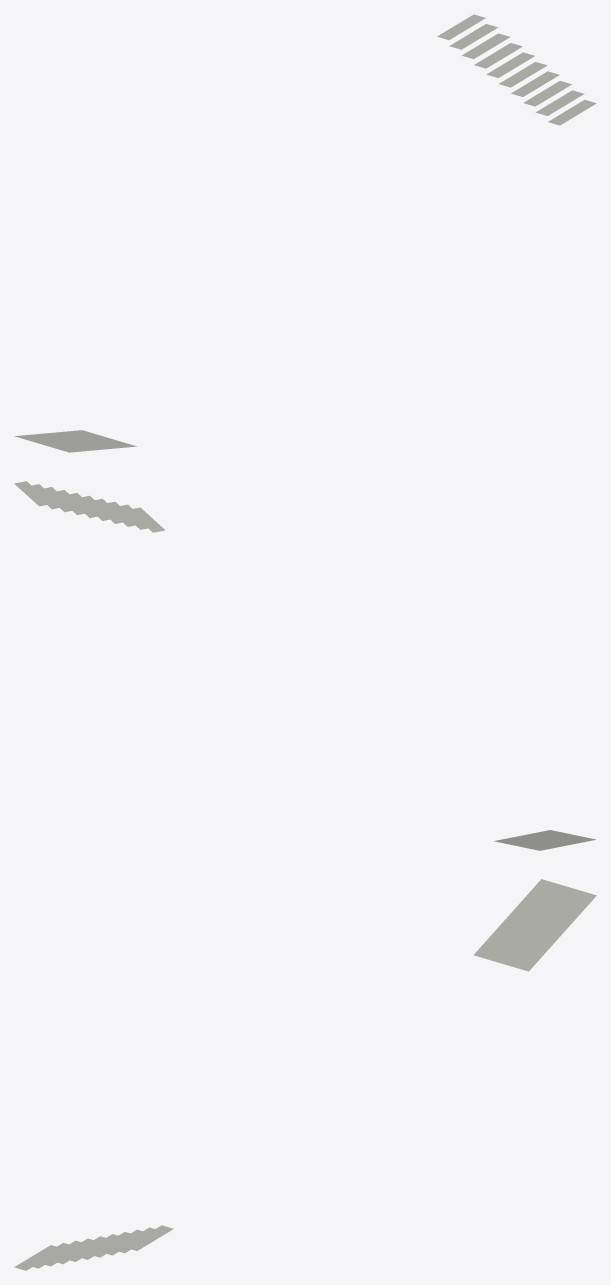
The model's file is kd_stage_135ebf_2_7.glb.
3 renders of one model, top to bottom at view 1: azimuth 90°, elevation 25°; view 2: azimuth 150°, elevation 25°; view 3: azimuth 270°, elevation 25°, orthographic. The views are drawn at different scales.
Parts seen in each view (by area): view 1: kd_stage_135ebf_2_7; view 2: kd_stage_135ebf_2_7; view 3: kd_stage_135ebf_2_7.
Part boxes in pixels (bbox=[...]): kd_stage_135ebf_2_7: bbox=[15, 14, 596, 452]; kd_stage_135ebf_2_7: bbox=[14, 481, 595, 850]; kd_stage_135ebf_2_7: bbox=[14, 879, 596, 1270].
Bounding box in the file's own units: 44.64 × 3.5 × 27.15.
Materials: 1 (1 with a texture image).
